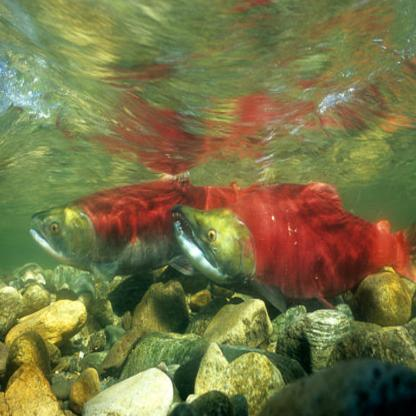sockeye: (34, 166, 330, 266), (169, 198, 413, 308)
